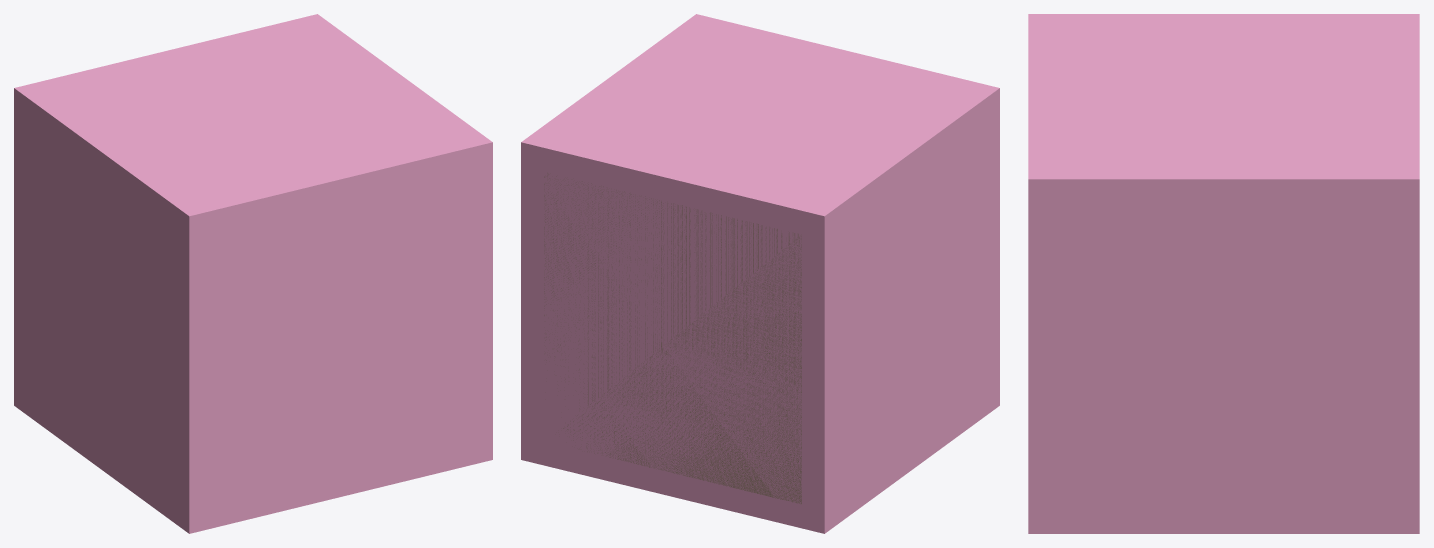
The model's file is 72_orchid_spray.glb.
3 views of the same model, side by side, from view 1: azimuth 30°, elevation 25°; view 2: azimuth 150°, elevation 25°; view 3: azimuth 270°, elevation 25° (orthographic). The views are drawn at different scales.
Visible parts, largest first — view 1: Core; view 2: Core, Soil; view 3: Core.
Part boxes in pixels (<box>): Core: <box>14,14,492,533</box>; Core: <box>521,14,999,533</box>; Soil: <box>544,173,801,503</box>; Core: <box>1028,14,1419,533</box>.
Size of the model in its own units: 1 by 1 by 1.
